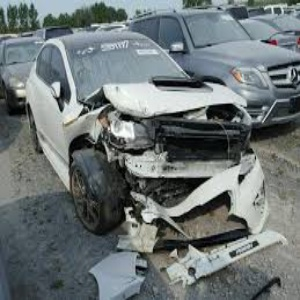bonnet: (93, 80, 248, 117)
bumper: (121, 159, 267, 262)
